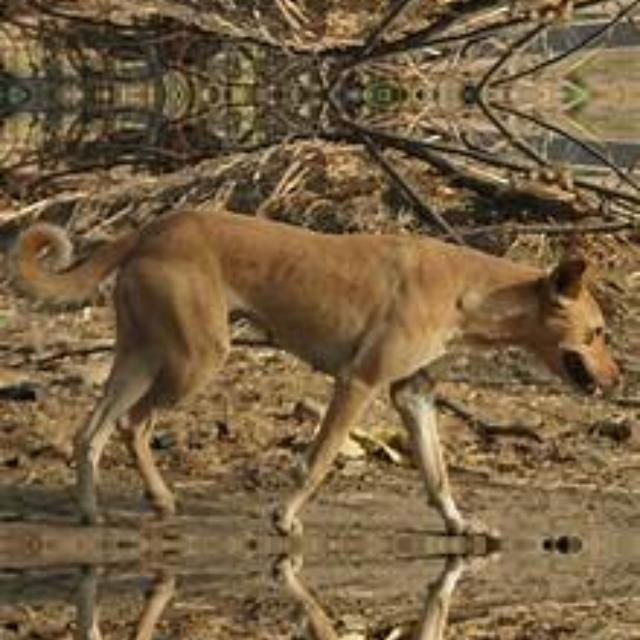dog: (11, 215, 640, 527), (11, 563, 640, 640)
